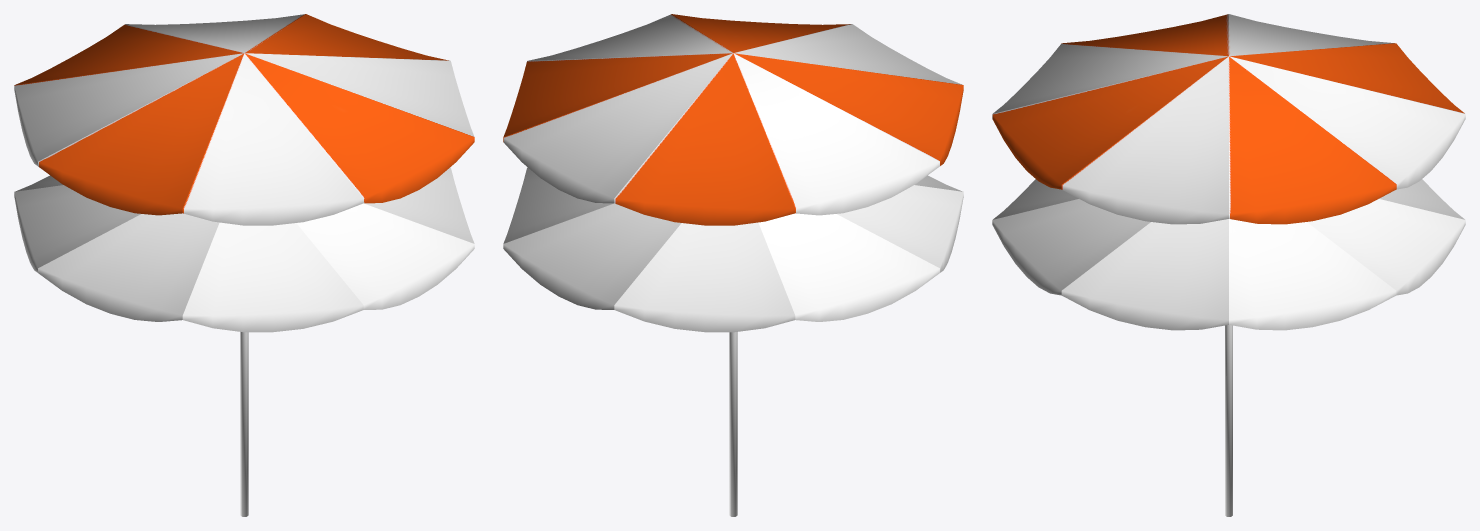
File: Umbrella-1.fbx
3 views of the same model, side by side, from view 1: azimuth 30°, elevation 25°; view 2: azimuth 150°, elevation 25°; view 3: azimuth 270°, elevation 25° (orthographic).
Parts seen in each view (by area): view 1: Umb, Piece, Cylinder; view 2: Umb, Piece, Cylinder; view 3: Umb, Piece, Cylinder.
Boxes of the visible parts, bbox=[...] form: Umb: bbox=[14, 14, 474, 225]; Piece: bbox=[14, 167, 474, 332]; Cylinder: bbox=[240, 332, 248, 516]; Umb: bbox=[503, 14, 963, 225]; Piece: bbox=[503, 167, 963, 332]; Cylinder: bbox=[729, 332, 737, 516]; Umb: bbox=[992, 14, 1465, 224]; Piece: bbox=[992, 179, 1465, 330]; Cylinder: bbox=[1225, 325, 1232, 516].
Bounding box in the file's own units: 4 × 4.28 × 4.
